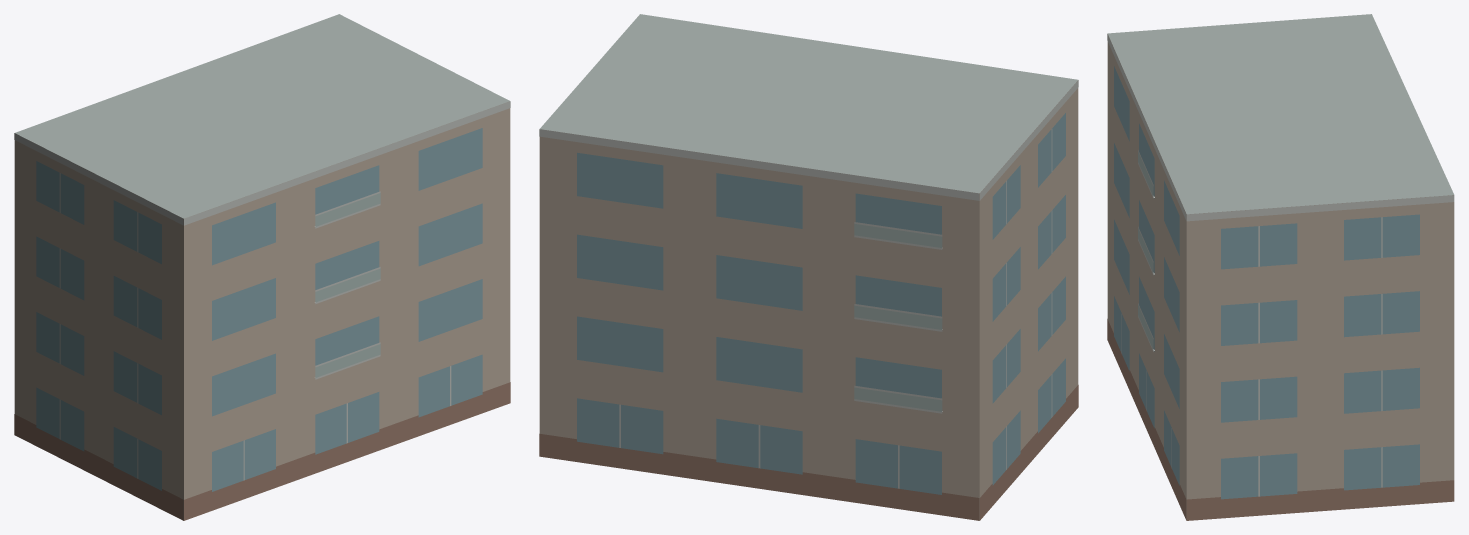
The model's file is survey-upis-32894571.glb.
3 renders of one model, left to right at view 1: azimuth 30°, elevation 25°; view 2: azimuth 150°, elevation 25°; view 3: azimuth 270°, elevation 25°, orthographic. The views are drawn at different scales.
Visible parts, largest first — view 1: survey-upis-32894571.tmp; view 2: survey-upis-32894571.tmp; view 3: survey-upis-32894571.tmp.
Boxes of the visible parts, x1,y1,x2,y2 form: survey-upis-32894571.tmp: (14, 14, 510, 520); survey-upis-32894571.tmp: (539, 14, 1078, 520); survey-upis-32894571.tmp: (1107, 14, 1454, 520).
Size of the model in its own units: 14.87 by 10.6 by 10.88.
